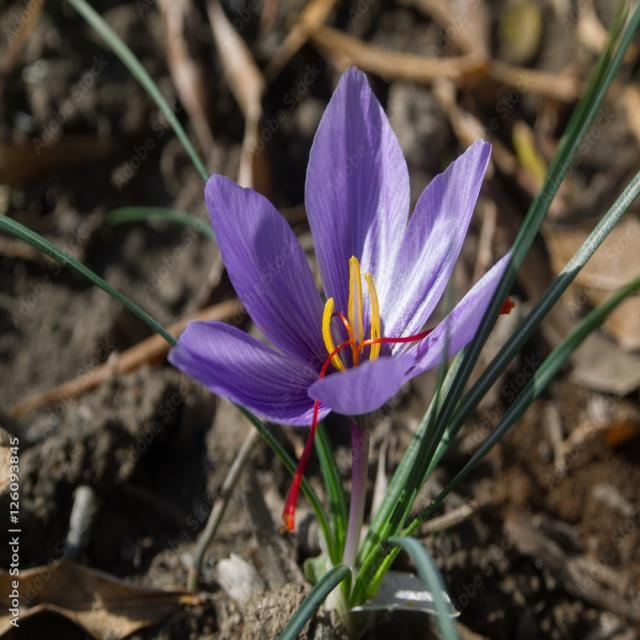saffron open: (170, 68, 509, 565)
